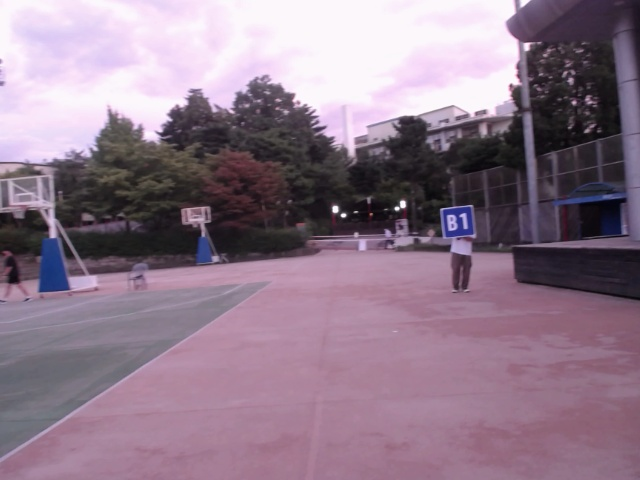delivery_b1: (441, 206, 476, 238)
